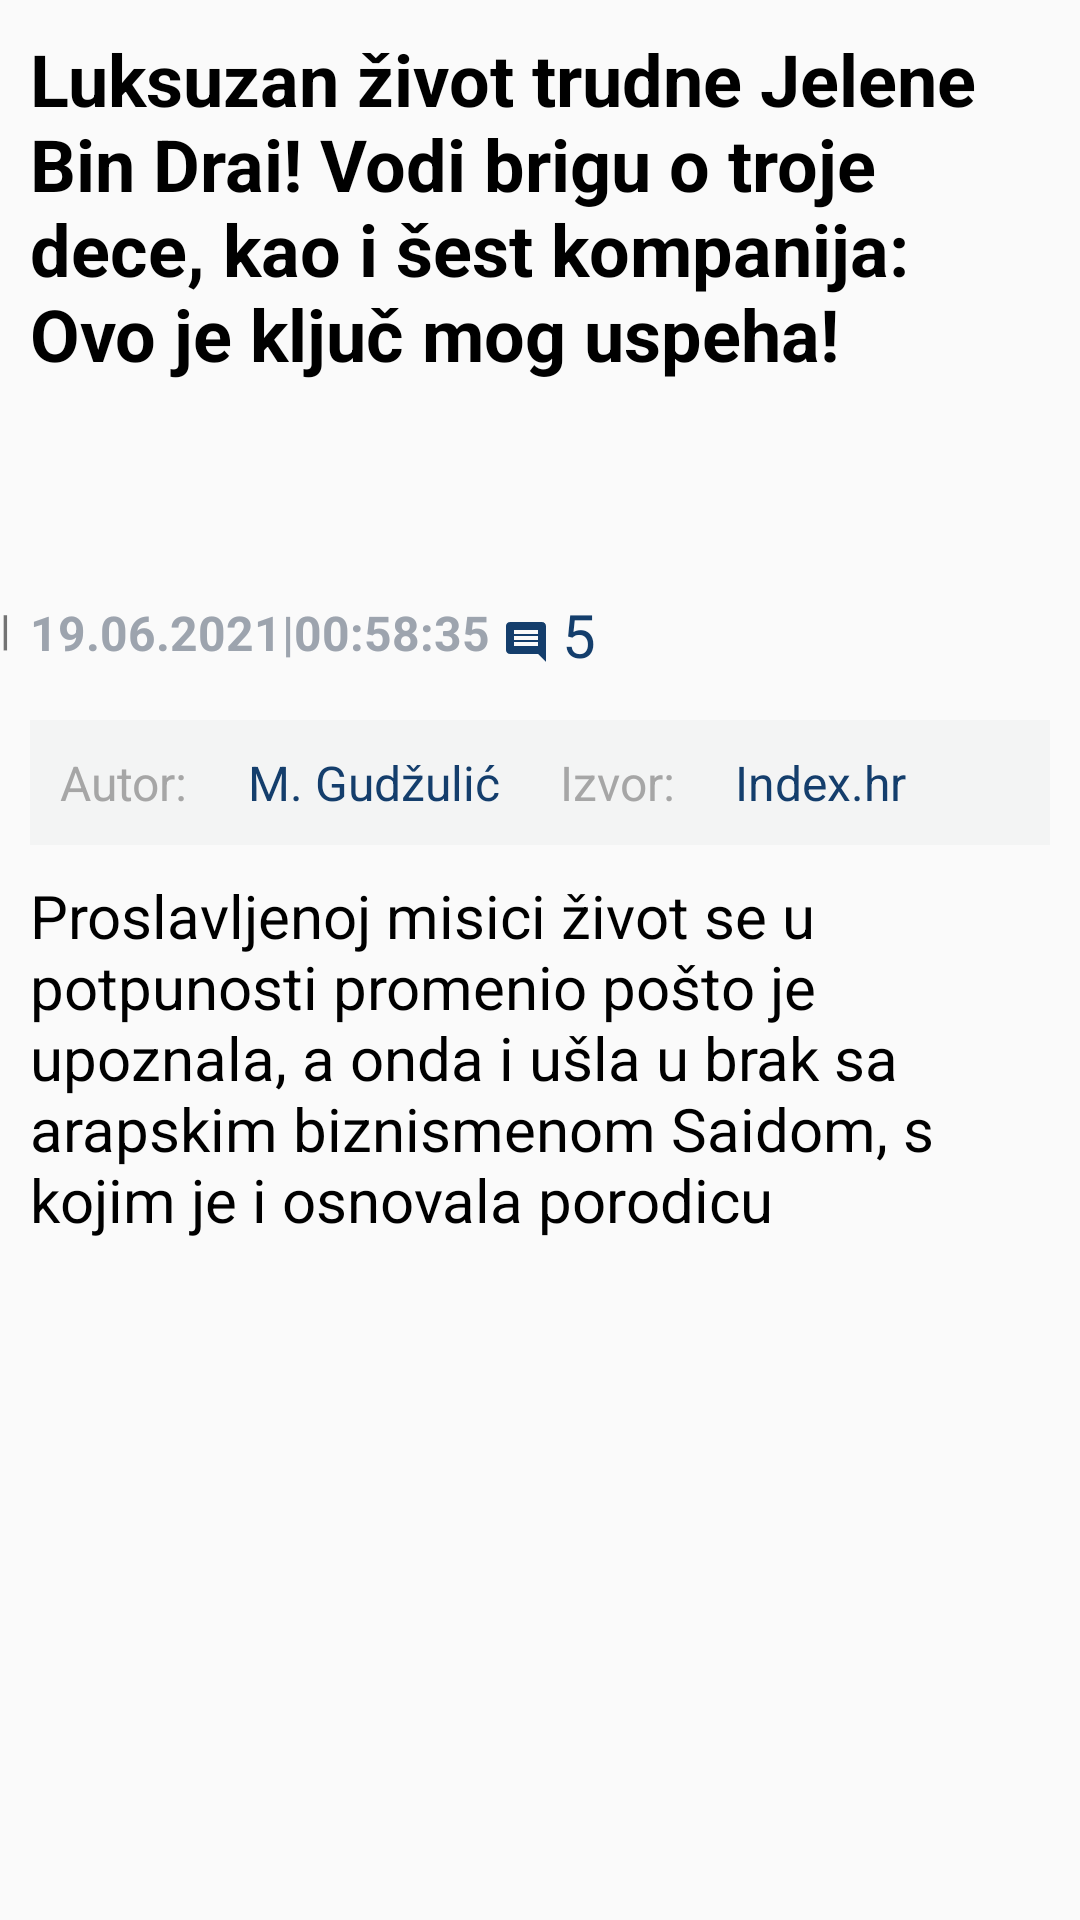

Point at icon controls on the screen. Image size 1080x1920, points as [x,y].
comment: [526,642]
